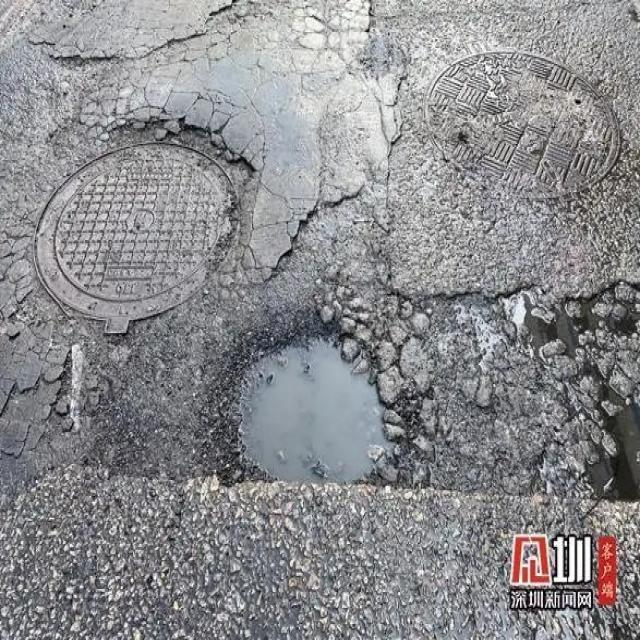pothole: (29, 121, 242, 342), (468, 279, 639, 509), (229, 316, 403, 491)
